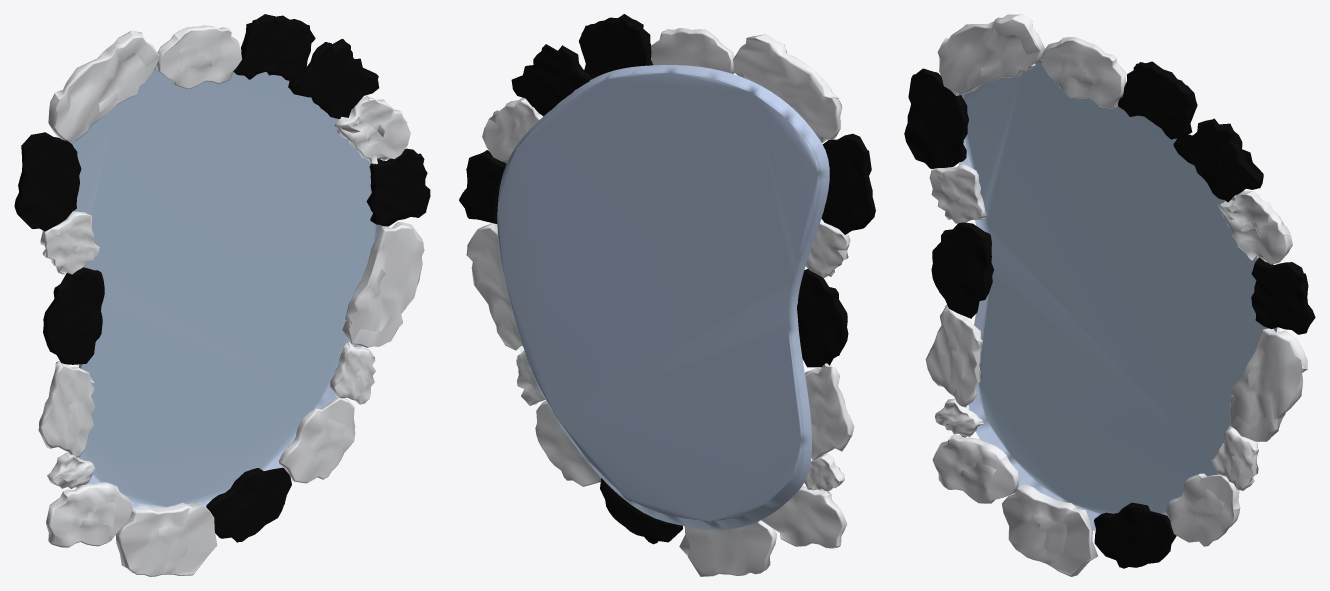
The model's file is Pond.fbx.
3 views of the same model, side by side, from view 1: azimuth 30°, elevation 25°; view 2: azimuth 150°, elevation 25°; view 3: azimuth 330°, elevation 25° (orthographic).
Visible parts, largest first — view 1: basin, rocks; view 2: basin, rocks; view 3: basin, rocks.
Boxes of the visible parts, x1,y1,x2,y2 form: basin: (68,67,388,507); rocks: (14,14,430,576); basin: (497,65,829,529); rocks: (459,14,875,576); basin: (958,60,1277,530); rocks: (904,14,1315,576).
Size of the model in its own units: 2060 by 2636 by 128.
